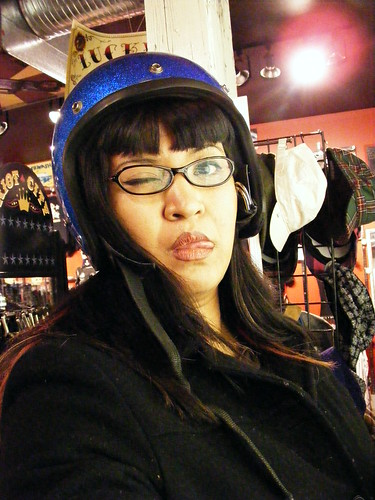helmet: (29, 42, 252, 139)
